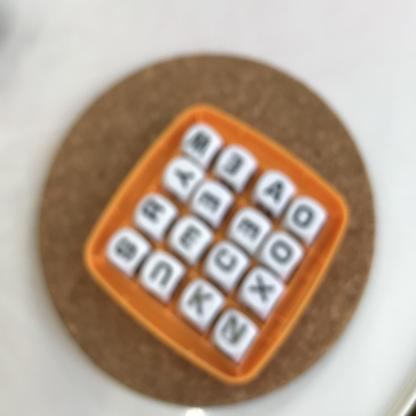a: (258, 177, 295, 208)
c: (209, 241, 246, 279)
e: (216, 146, 254, 184), (236, 212, 266, 245), (175, 223, 203, 256), (198, 185, 222, 221)
k: (184, 281, 216, 321)
n: (217, 309, 249, 352)
o: (265, 236, 300, 269), (292, 201, 321, 229)
r: (143, 199, 169, 226)
s: (108, 227, 144, 268)
u: (145, 254, 180, 292)
w: (183, 124, 216, 158)
x: (246, 271, 281, 307)
y: (168, 159, 200, 196)
